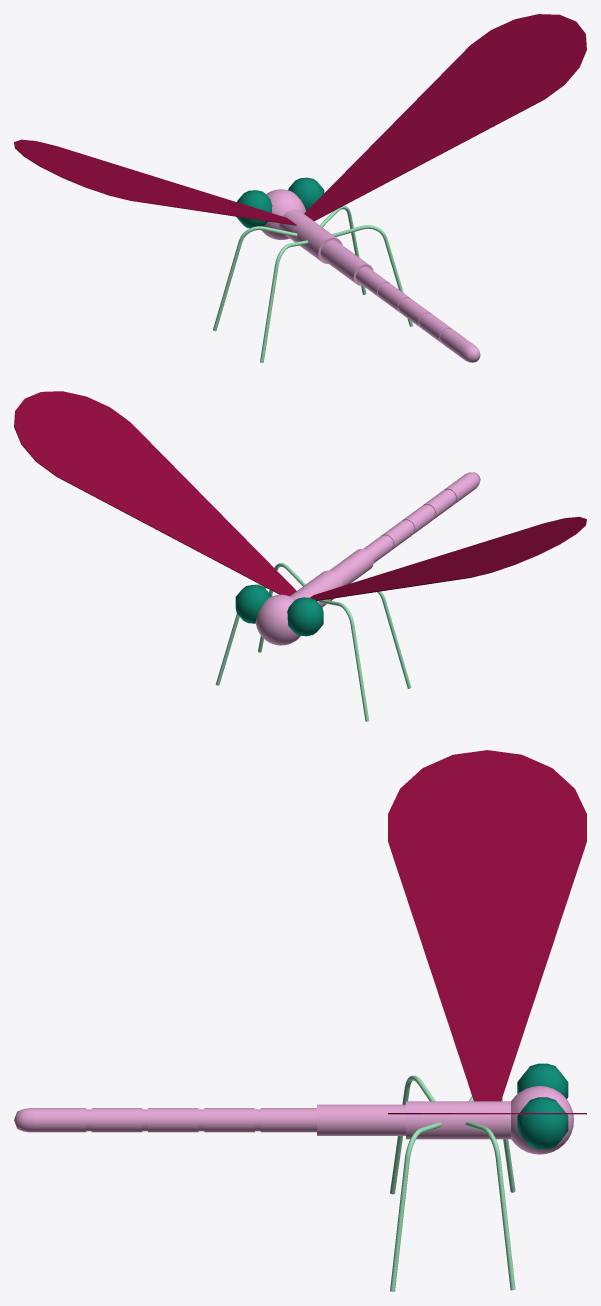
The model's file is robofly.obj.
The picture shows the model from 3 angles, top to bottom: view 1: azimuth 30°, elevation 25°; view 2: azimuth 150°, elevation 25°; view 3: azimuth 270°, elevation 25°; orthographic projection. The views are drawn at different scales.
Parts seen in each view (by area): view 1: Cylinder002, Cylinder001, Sphere001, Sphere002, Sphere003, Torus004, Torus003, Torus002; view 2: Cylinder002, Cylinder001, Sphere001, Sphere002, Sphere003, Torus004, Torus003; view 3: Cylinder001, Sphere001, Sphere003, Sphere002, Torus002, Torus001, Torus003.
Part boxes in pixels (x1,y1,x2,y2): Cylinder002: (304, 14, 586, 221); Cylinder001: (14, 139, 296, 225); Sphere001: (261, 189, 480, 362); Sphere002: (236, 190, 272, 228); Sphere003: (288, 177, 324, 210); Torus004: (213, 226, 297, 331); Torus003: (260, 240, 308, 362); Torus002: (332, 225, 413, 326); Cylinder002: (14, 391, 296, 596); Cylinder001: (310, 516, 586, 600); Sphere001: (255, 472, 480, 645); Sphere002: (287, 597, 323, 636); Sphere003: (235, 585, 271, 623); Torus004: (319, 599, 369, 721); Torus003: (377, 591, 411, 688); Cylinder001: (388, 750, 586, 1101); Sphere001: (14, 1086, 573, 1154); Sphere003: (517, 1097, 568, 1149); Sphere002: (517, 1063, 568, 1098); Torus002: (390, 1122, 441, 1291); Torus001: (465, 1121, 515, 1290); Torus003: (390, 1075, 435, 1194).
Bounding box in the file's own units: 475 × 189 × 316.
